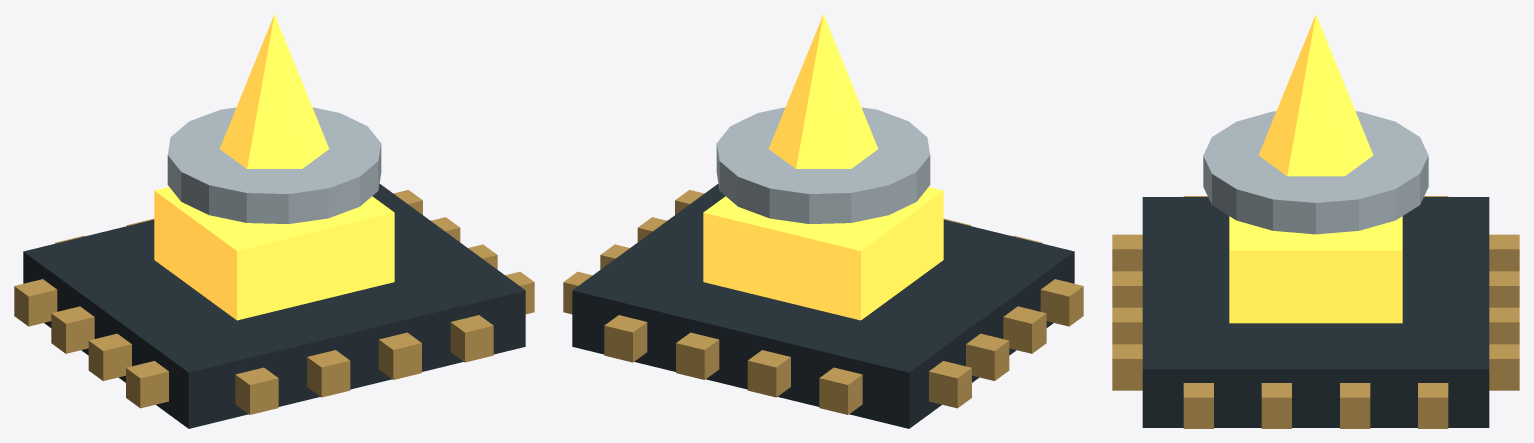
The model's file is plugin-speed-support.glb.
3 views of the same model, side by side, from view 1: azimuth 30°, elevation 25°; view 2: azimuth 150°, elevation 25°; view 3: azimuth 270°, elevation 25° (orthographic). The views are drawn at different scales.
Visible parts, largest first — view 1: plugin circuit substrate, processor block, support crystal ring, support crystal, gold edge connector.008, gold edge connector.009, gold edge connector.011, gold edge connector.010, gold edge connector, gold edge connector.001, gold edge connector.003, gold edge connector.002 (+1 smaller); view 2: plugin circuit substrate, processor block, support crystal ring, support crystal, gold edge connector.012, gold edge connector.013, gold edge connector.015, gold edge connector.014, gold edge connector.003, gold edge connector.002, gold edge connector, gold edge connector.001 (+1 smaller); view 3: plugin circuit substrate, support crystal ring, processor block, support crystal, gold edge connector.011, gold edge connector.015, gold edge connector.004, gold edge connector.005, gold edge connector.006, gold edge connector.007, gold edge connector.008, gold edge connector.010 (+4 smaller).
Part boxes in pixels (x1,y1,x2,y2): plugin circuit substrate: (23, 184, 525, 428); processor block: (154, 187, 394, 320); support crystal ring: (167, 107, 381, 224); support crystal: (219, 14, 329, 168); gold edge connector.008: (235, 367, 278, 414); gold edge connector.009: (307, 350, 350, 397); gold edge connector.011: (450, 315, 493, 362); gold edge connector.010: (378, 332, 421, 379); gold edge connector: (126, 361, 168, 408); gold edge connector.001: (88, 333, 131, 380); gold edge connector.003: (14, 279, 57, 326); gold edge connector.002: (51, 306, 94, 353); plugin circuit substrate: (572, 184, 1074, 428); processor block: (703, 187, 943, 320); support crystal ring: (716, 107, 930, 224); support crystal: (768, 14, 878, 168); gold edge connector.012: (819, 367, 862, 414); gold edge connector.013: (747, 350, 790, 397); gold edge connector.015: (604, 315, 647, 362); gold edge connector.014: (676, 332, 719, 379); gold edge connector.003: (929, 361, 971, 408); gold edge connector.002: (966, 333, 1009, 380); gold edge connector: (1040, 279, 1083, 326); gold edge connector.001: (1003, 306, 1046, 353); plugin circuit substrate: (1142, 197, 1489, 427); support crystal ring: (1203, 111, 1428, 234); processor block: (1229, 216, 1402, 323); support crystal: (1258, 14, 1373, 176); gold edge connector.011: (1112, 344, 1142, 390); gold edge connector.015: (1489, 344, 1519, 390); gold edge connector.004: (1183, 383, 1213, 428); gold edge connector.005: (1261, 383, 1291, 428); gold edge connector.006: (1340, 383, 1370, 428); gold edge connector.007: (1418, 383, 1448, 428); gold edge connector.008: (1112, 234, 1142, 271); gold edge connector.010: (1112, 307, 1142, 344).
Bounding box in the file's own units: 1.1 × 0.835 × 0.94.
